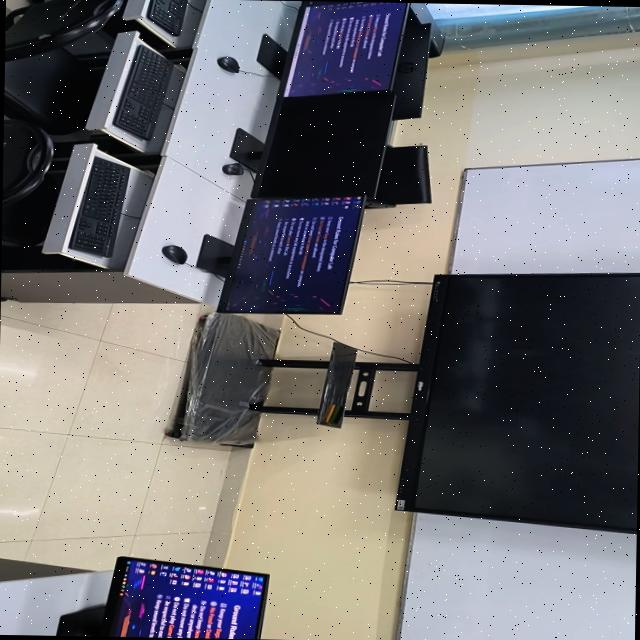Chair: (4, 0, 121, 133), (1, 119, 57, 244), (365, 144, 431, 207)
Cpu: (410, 2, 444, 56)
Digital board: (170, 274, 640, 532)
Keyboard: (68, 155, 130, 256), (112, 44, 174, 139), (147, 0, 187, 35)
Monitor: (195, 193, 365, 313), (56, 555, 269, 639), (230, 89, 395, 196), (258, 0, 407, 95), (392, 8, 430, 119)
Mouse: (162, 243, 187, 263), (217, 55, 240, 72), (222, 161, 243, 174)
